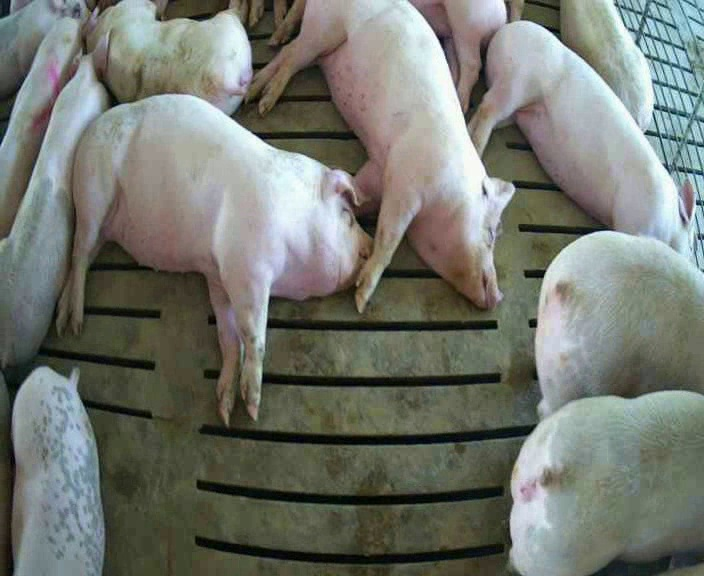pig: (58, 95, 370, 423), (247, 2, 513, 310), (469, 21, 694, 256), (510, 391, 703, 574), (0, 56, 108, 367), (535, 231, 703, 416), (0, 16, 87, 238), (12, 367, 104, 574), (560, 2, 653, 130), (412, 1, 506, 112), (0, 1, 91, 98)
